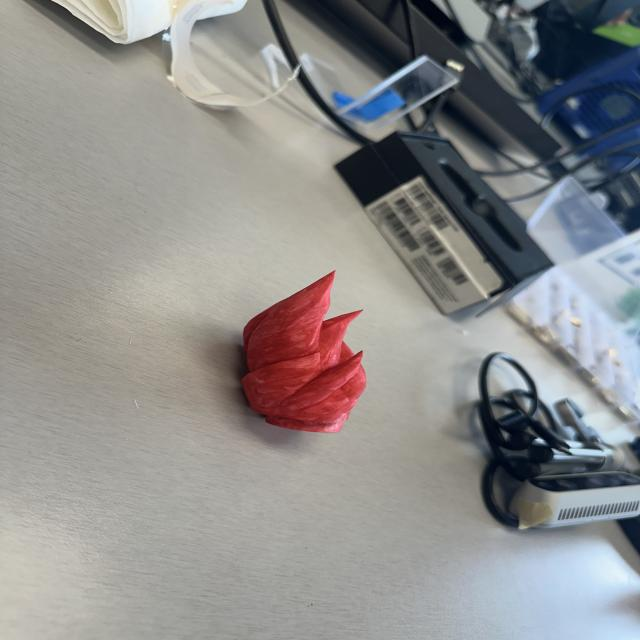fire: (241, 270, 369, 435)
